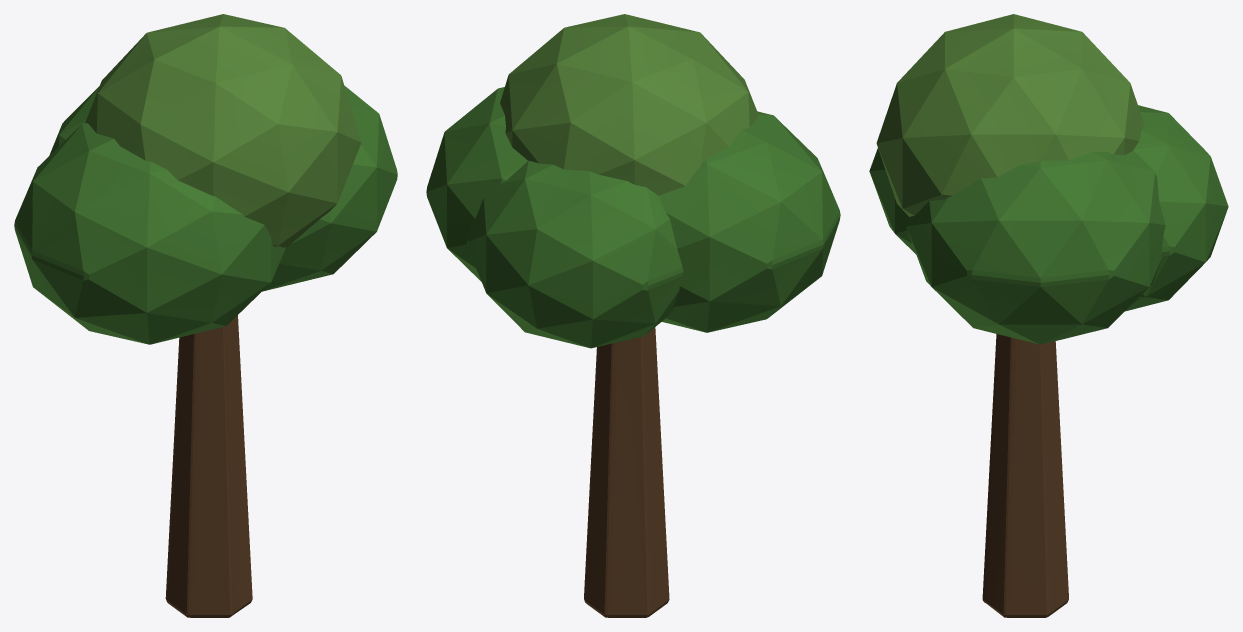
The model's file is prop_broadleaf.glb.
3 views of the same model, side by side, from view 1: azimuth 30°, elevation 25°; view 2: azimuth 150°, elevation 25°; view 3: azimuth 270°, elevation 25° (orthographic).
Parts seen in each view (by area): view 1: prop_broadleaf_part_0; view 2: prop_broadleaf_part_0; view 3: prop_broadleaf_part_0.
Boxes of the visible parts, x1,y1,x2,y2 form: prop_broadleaf_part_0: (14,14,397,617); prop_broadleaf_part_0: (426,14,840,617); prop_broadleaf_part_0: (869,14,1228,617).
Bounding box in the file's own units: 3.45 × 5.22 × 2.94.
